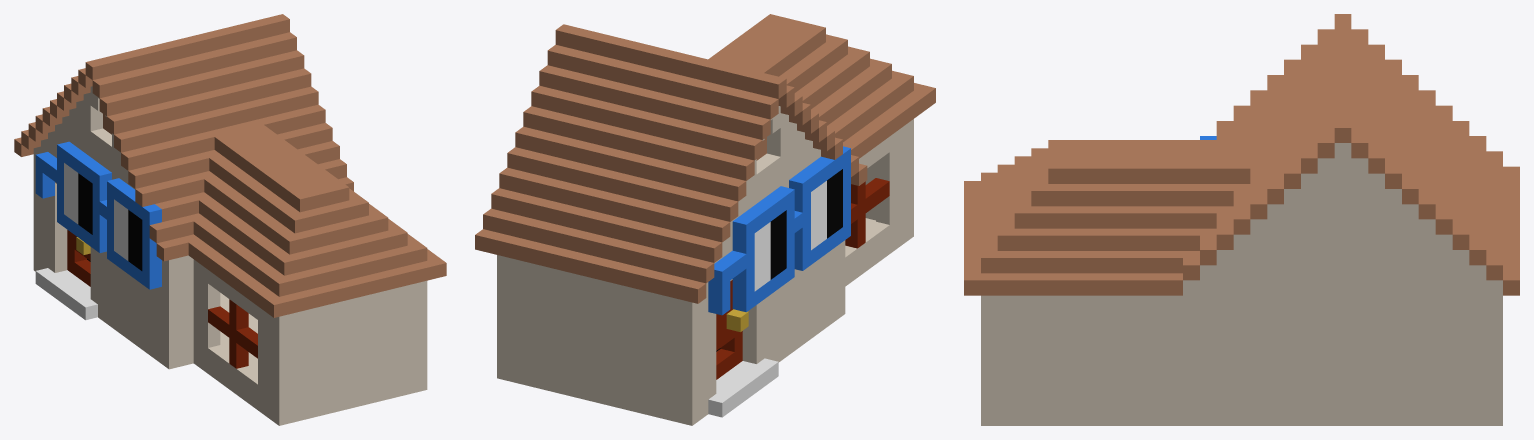
Rendered from house.glb.
3 renders of one model, left to right at view 1: azimuth 30°, elevation 25°; view 2: azimuth 150°, elevation 25°; view 3: azimuth 270°, elevation 25°, orthographic. The views are drawn at different scales.
Visible parts, largest first — view 1: untitled; view 2: untitled; view 3: untitled.
Boxes of the visible parts, left/top/right/bottom form: untitled: left=14, top=14, right=446, bottom=425; untitled: left=475, top=14, right=935, bottom=425; untitled: left=964, top=14, right=1519, bottom=425.
Bounding box in the file's own units: 1.6 × 2 × 3.3.
1 material, 1 textured.
